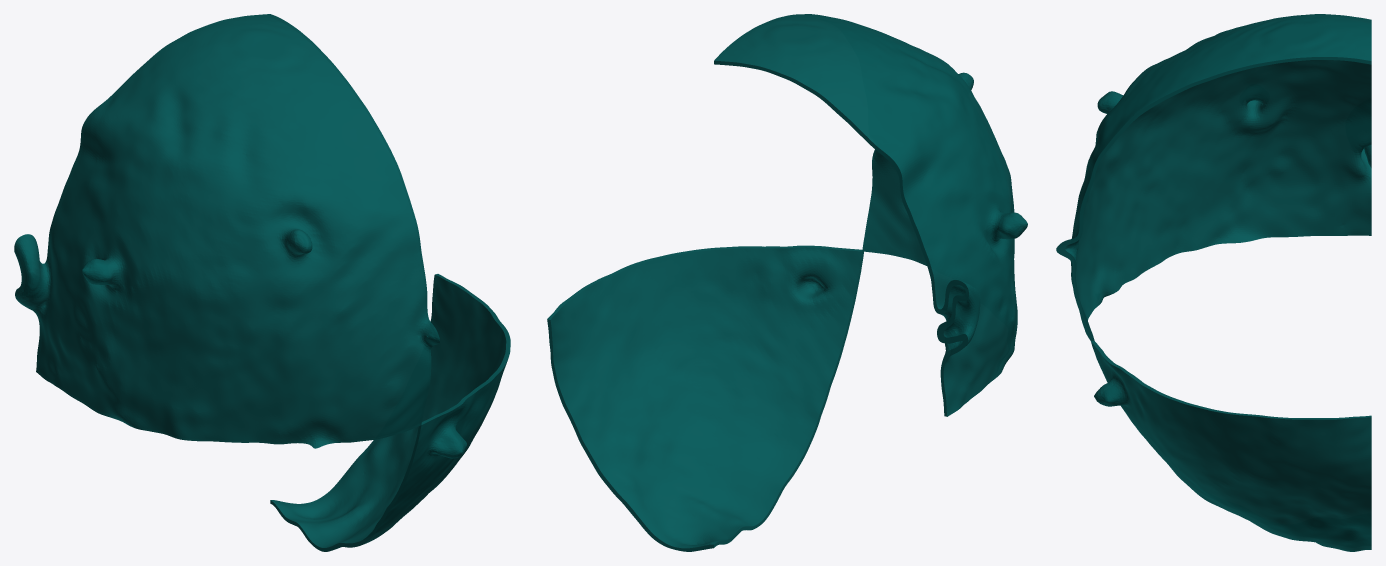
File: Scalp_quadrants.obj
The picture shows the model from 3 angles, left to right: view 1: azimuth 30°, elevation 25°; view 2: azimuth 150°, elevation 25°; view 3: azimuth 270°, elevation 25°; orthographic projection. The views are drawn at different scales.
Parts seen in each view (by area): view 1: grp1; view 2: grp1; view 3: grp1.
Boxes of the visible parts, bbox=[...] form: grp1: bbox=[14, 14, 510, 551]; grp1: bbox=[547, 14, 1027, 551]; grp1: bbox=[1056, 14, 1371, 551].
Size of the model in its own units: 174 by 198 by 118.
